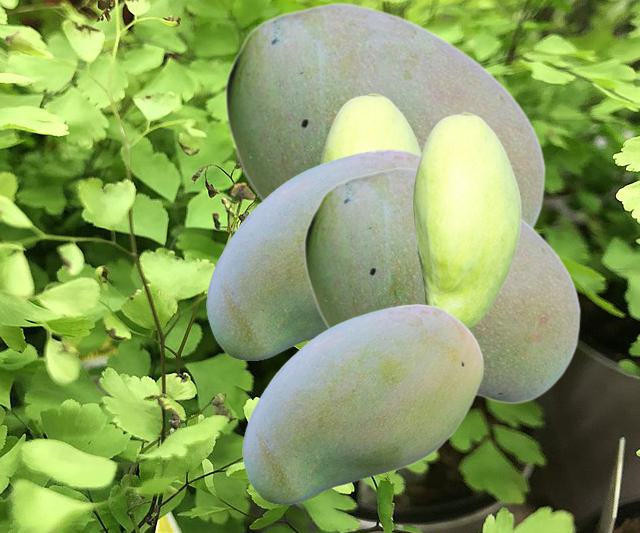green_mango: (224, 1, 545, 227), (303, 166, 580, 403), (242, 304, 483, 503), (206, 149, 420, 359), (412, 112, 520, 329), (320, 93, 421, 163)
